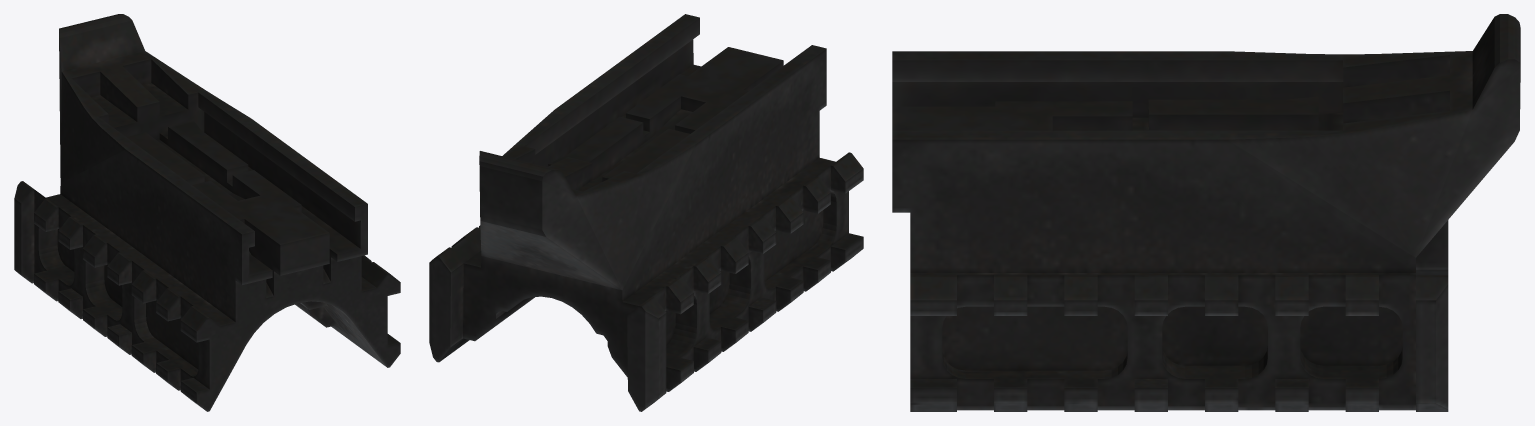
3 renders of one model, left to right at view 1: azimuth 30°, elevation 25°; view 2: azimuth 150°, elevation 25°; view 3: azimuth 270°, elevation 25°, orthographic. The views are drawn at different scales.
Parts seen in each view (by area): view 1: TW_668ea3f68117e4968b0cff4a_PZ_Import; view 2: TW_668ea3f68117e4968b0cff4a_PZ_Import; view 3: TW_668ea3f68117e4968b0cff4a_PZ_Import.
Part boxes in pixels (x1,y1,x2,y2): TW_668ea3f68117e4968b0cff4a_PZ_Import: (14,14,400,411); TW_668ea3f68117e4968b0cff4a_PZ_Import: (429,14,863,411); TW_668ea3f68117e4968b0cff4a_PZ_Import: (892,14,1520,411).
Bounding box in the file's own units: 0.0279 × 0.0517 × 0.0282.
Materials: 1 (1 with a texture image).
